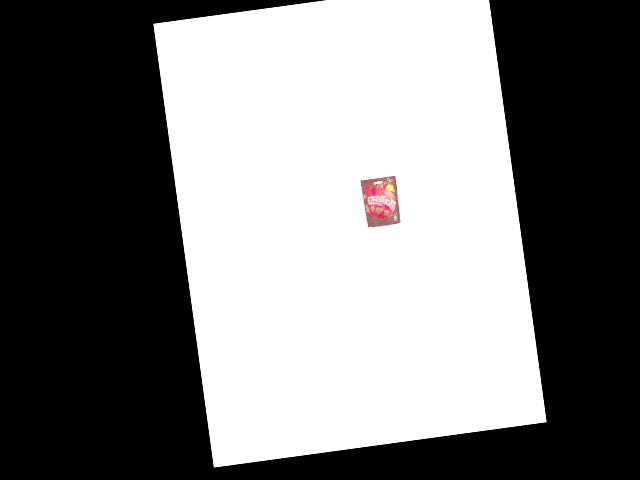chocolate: (359, 174, 402, 229)
